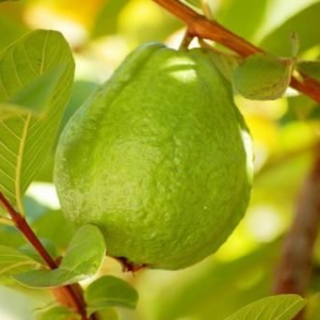oi: (53, 45, 252, 272)
